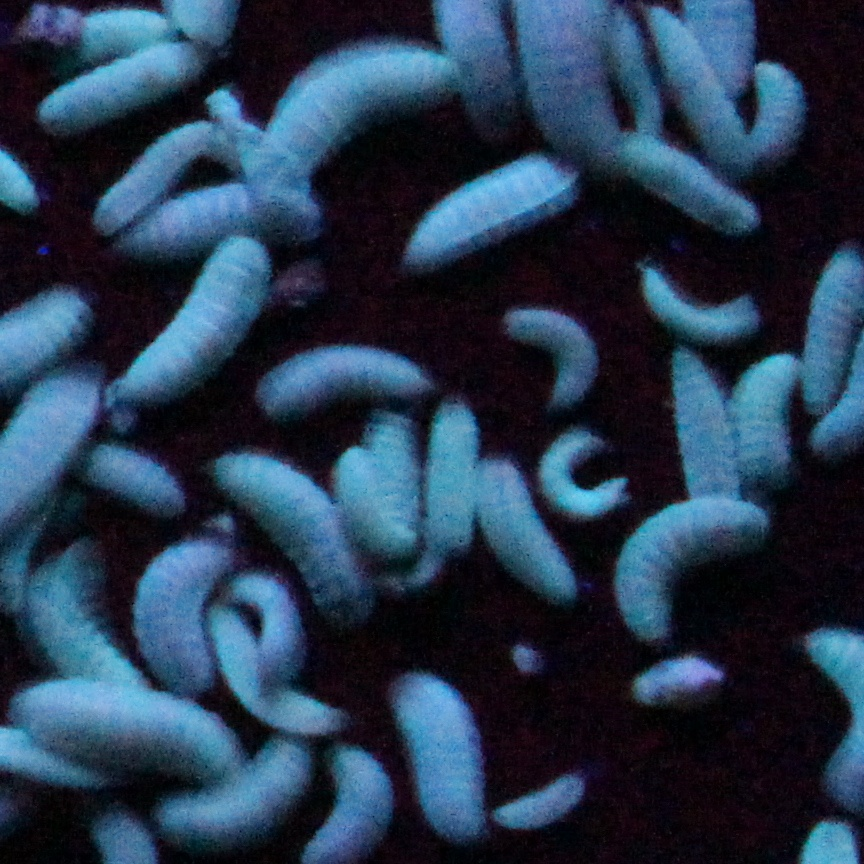larve: (255, 48, 473, 169), (214, 451, 368, 617), (127, 235, 282, 398), (21, 676, 248, 780), (623, 494, 771, 646), (409, 153, 571, 267), (132, 539, 248, 696), (389, 664, 493, 839), (200, 612, 341, 735), (648, 5, 752, 169), (475, 455, 580, 614), (25, 562, 157, 687), (141, 744, 321, 830), (334, 412, 425, 578), (30, 42, 193, 128), (614, 135, 764, 228), (664, 335, 746, 505), (264, 346, 434, 414), (730, 344, 800, 496), (100, 126, 209, 223), (639, 267, 761, 353), (427, 389, 475, 585), (232, 571, 311, 687), (514, 296, 598, 405), (602, 7, 666, 135), (541, 435, 632, 523), (91, 448, 209, 512), (125, 189, 259, 237), (741, 60, 802, 157), (475, 778, 591, 828), (75, 1, 177, 53), (630, 655, 732, 707)
